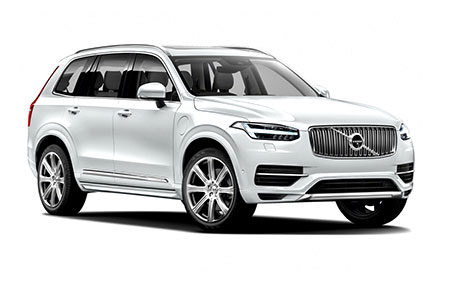pickup: (27, 42, 415, 234)
